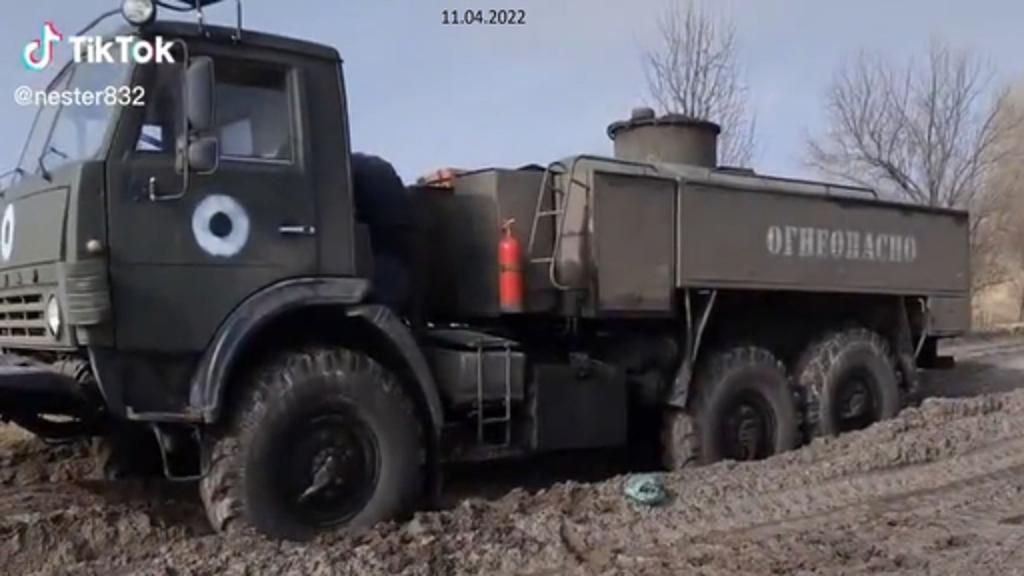TRUCK: (0, 14, 972, 554)
